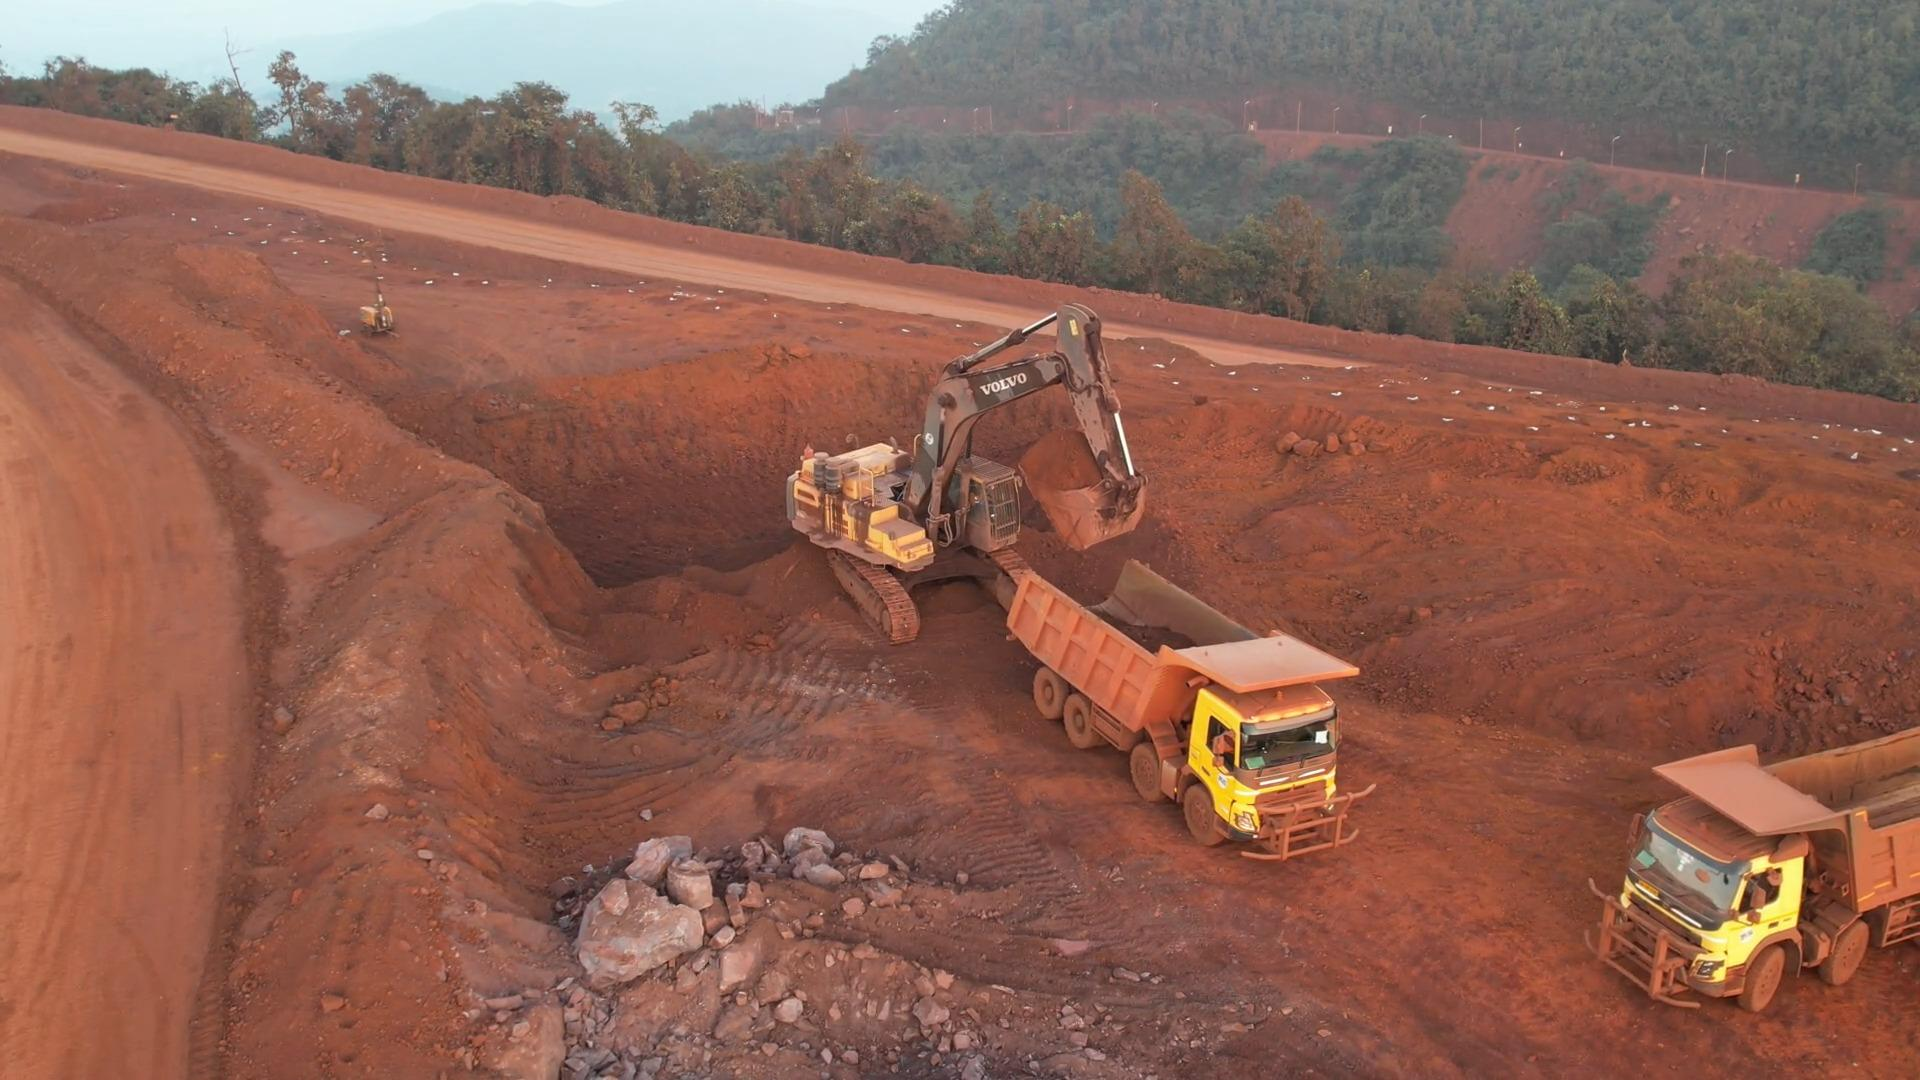excavator: (791, 305, 1143, 558)
